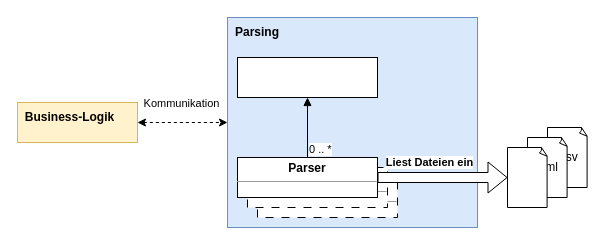
Some shapes in this 605 by 245 pixel diagram are drawn without their labels. The centre of each missing label's shape, as x and y in pixels:
".json" goes at point (527, 177).
"Document" goes at point (307, 77).
